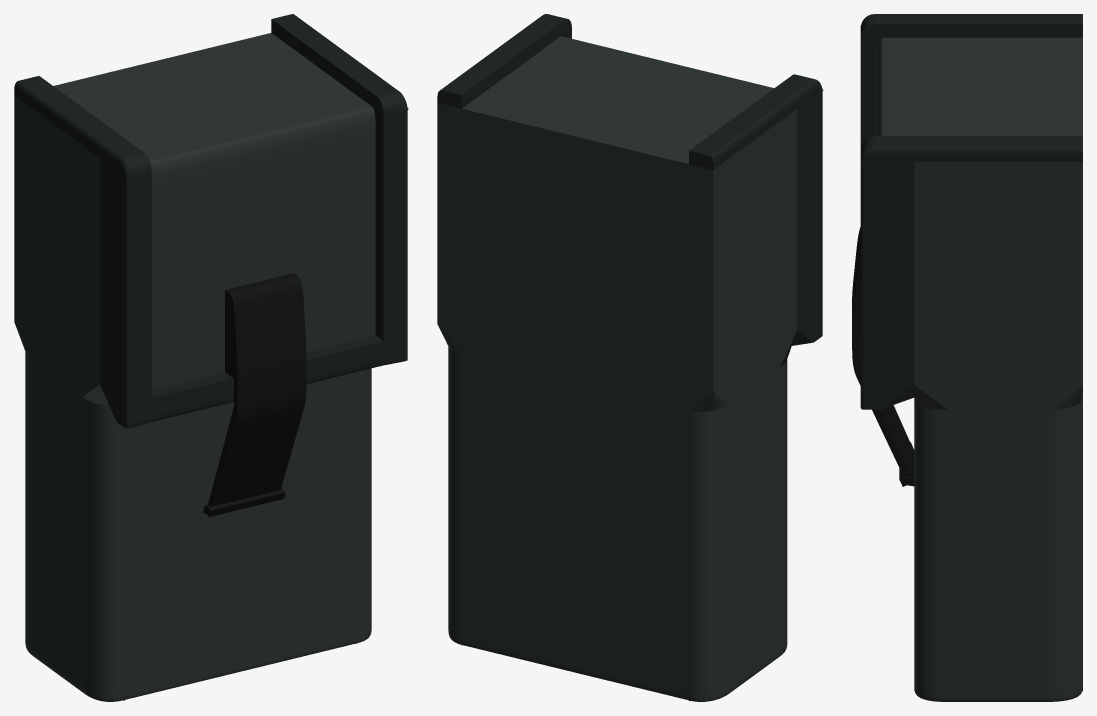
The model's file is Pouch.fbx.
3 views of the same model, side by side, from view 1: azimuth 30°, elevation 25°; view 2: azimuth 150°, elevation 25°; view 3: azimuth 270°, elevation 25° (orthographic). The views are drawn at different scales.
Parts seen in each view (by area): view 1: Pouch; view 2: Pouch; view 3: Pouch.
Part boxes in pixels (box(x1,y1,x2,y2)): Pouch: box(14, 14, 408, 701); Pouch: box(437, 14, 823, 701); Pouch: box(852, 14, 1082, 701).
Size of the model in its own units: 65.45 by 125 by 46.99.
